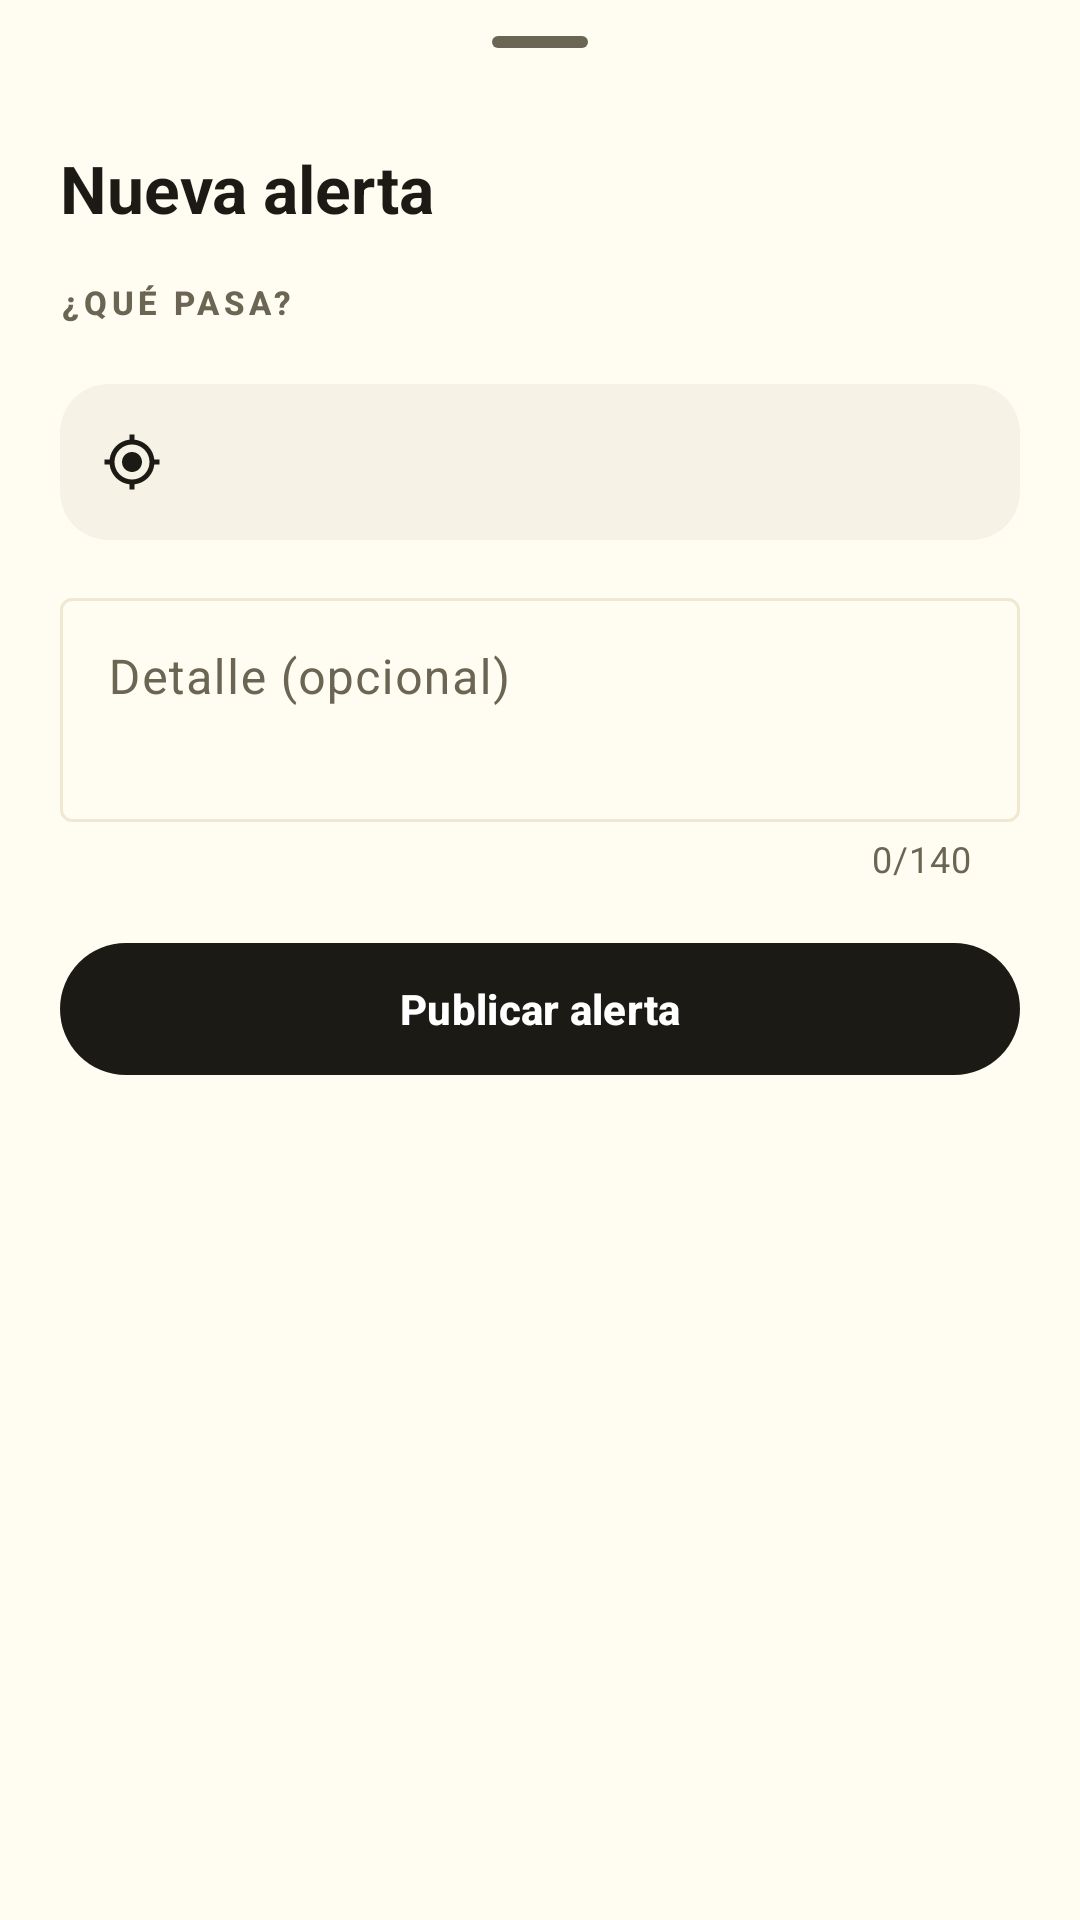

Named icons in this screenshot (1080 x 1920) and their centers, (x=x, y=y):
location: (x=132, y=462)
